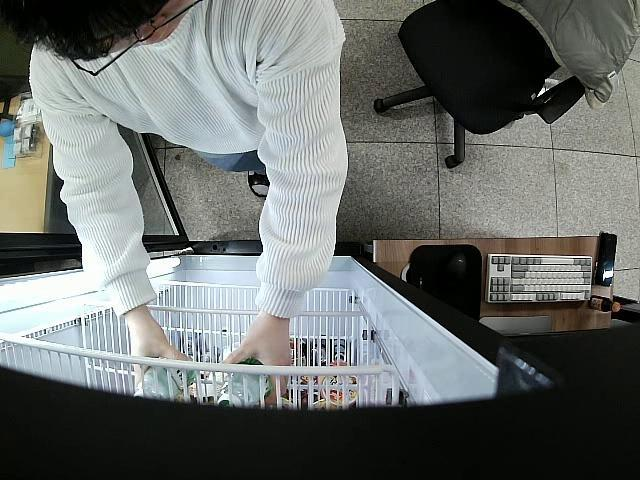18_trevi: (216, 358, 270, 406), (132, 362, 198, 399)
